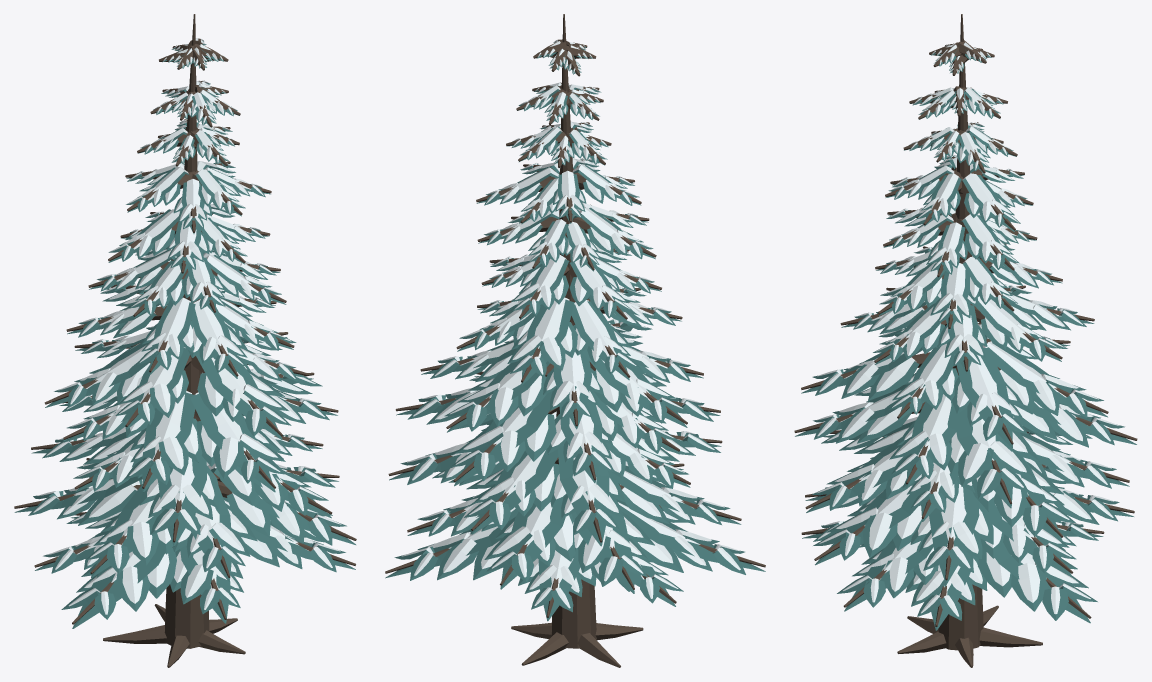
The model's file is TREE_09_FirLargeSnowy.glb.
3 views of the same model, side by side, from view 1: azimuth 30°, elevation 25°; view 2: azimuth 150°, elevation 25°; view 3: azimuth 270°, elevation 25° (orthographic).
Parts seen in each view (by area): view 1: TREE_09_FirLargeSnowy; view 2: TREE_09_FirLargeSnowy; view 3: TREE_09_FirLargeSnowy.
Boxes of the visible parts, x1,y1,x2,y2 form: TREE_09_FirLargeSnowy: (14, 14, 356, 667); TREE_09_FirLargeSnowy: (385, 14, 765, 667); TREE_09_FirLargeSnowy: (794, 14, 1137, 667).
Bounding box in the file's own units: 5.14 × 10.04 × 4.93.
